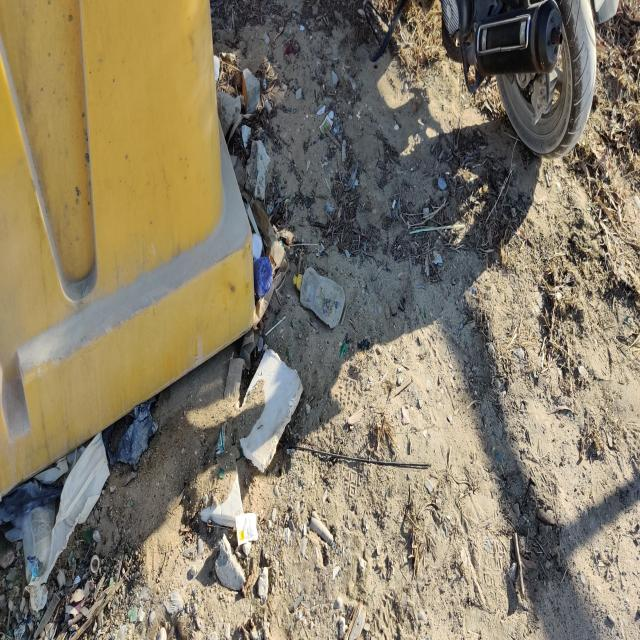litter: (20, 433, 110, 619), (300, 266, 345, 329), (235, 513, 259, 546), (253, 258, 273, 297), (57, 568, 67, 589), (90, 555, 100, 573), (293, 274, 303, 290)
